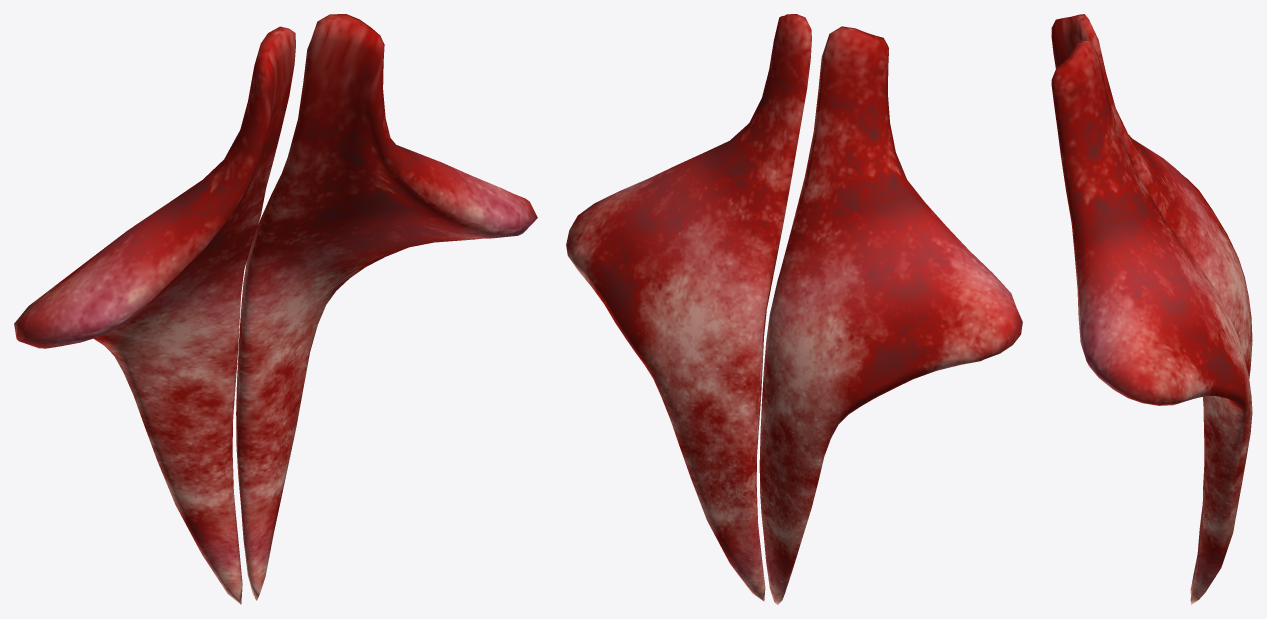
File: uploads_files_2474075_斜方肌.fbx
3 renders of one model, left to right at view 1: azimuth 30°, elevation 25°; view 2: azimuth 150°, elevation 25°; view 3: azimuth 270°, elevation 25°, orthographic. The views are drawn at different scales.
Visible parts, largest first — view 1: 斜方肌(左), 斜方肌(右); view 2: 斜方肌(右), 斜方肌(左); view 3: 斜方肌(左), 斜方肌(右).
Part boxes in pixels (x1,y1,x2,y2): 斜方肌(左): (236, 14, 537, 600); 斜方肌(右): (14, 26, 295, 604); 斜方肌(右): (759, 26, 1022, 604); 斜方肌(左): (566, 14, 811, 601); 斜方肌(左): (1051, 40, 1252, 604); 斜方肌(右): (1051, 14, 1252, 595).
Size of the model in its own units: 35 by 40.84 by 13.02.
Materials: 1 (1 with a texture image).
